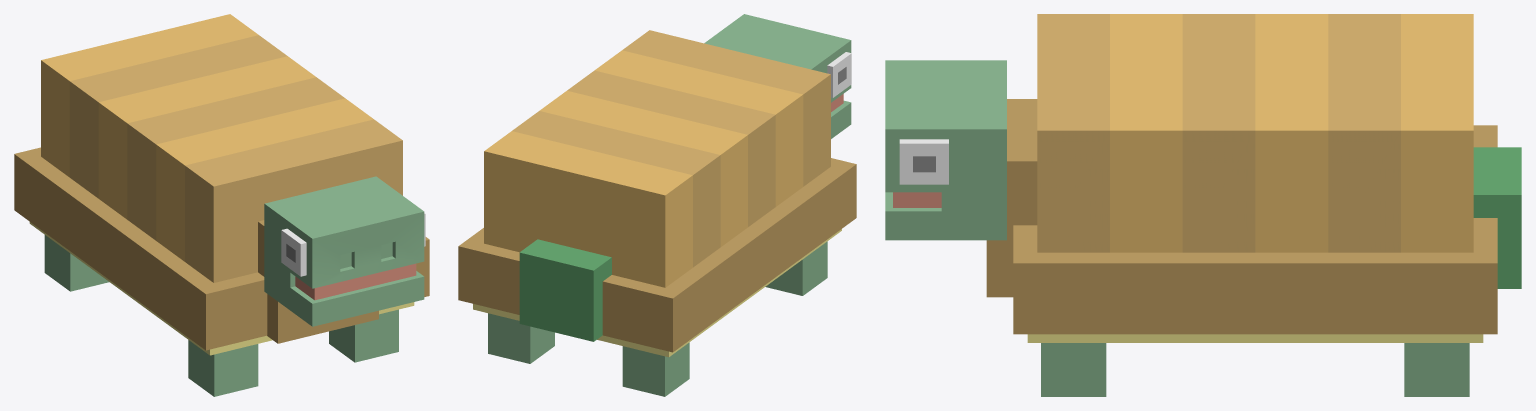
The model's file is turtle.fbx.
3 views of the same model, side by side, from view 1: azimuth 30°, elevation 25°; view 2: azimuth 150°, elevation 25°; view 3: azimuth 270°, elevation 25° (orthographic). The views are drawn at different scales.
Parts seen in each view (by area): view 1: zdq; view 2: zdq; view 3: zdq.
Part boxes in pixels (x1,y1,x2,y2): zdq: (14,14,429,396); zdq: (458,14,856,396); zdq: (885,14,1521,396).
Bounding box in the file's own units: 136 × 123 × 264.
